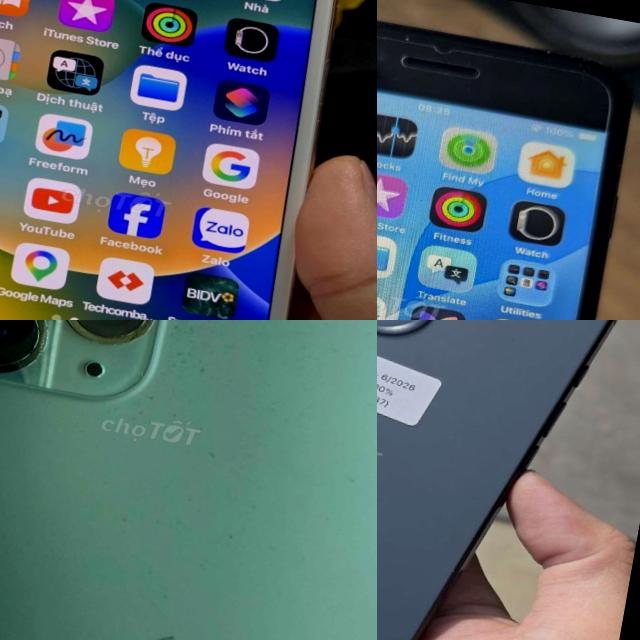scratch: (143, 320, 377, 414), (0, 320, 164, 395), (515, 36, 612, 82), (198, 424, 231, 480), (147, 500, 182, 540), (388, 22, 422, 46), (222, 524, 242, 550)
